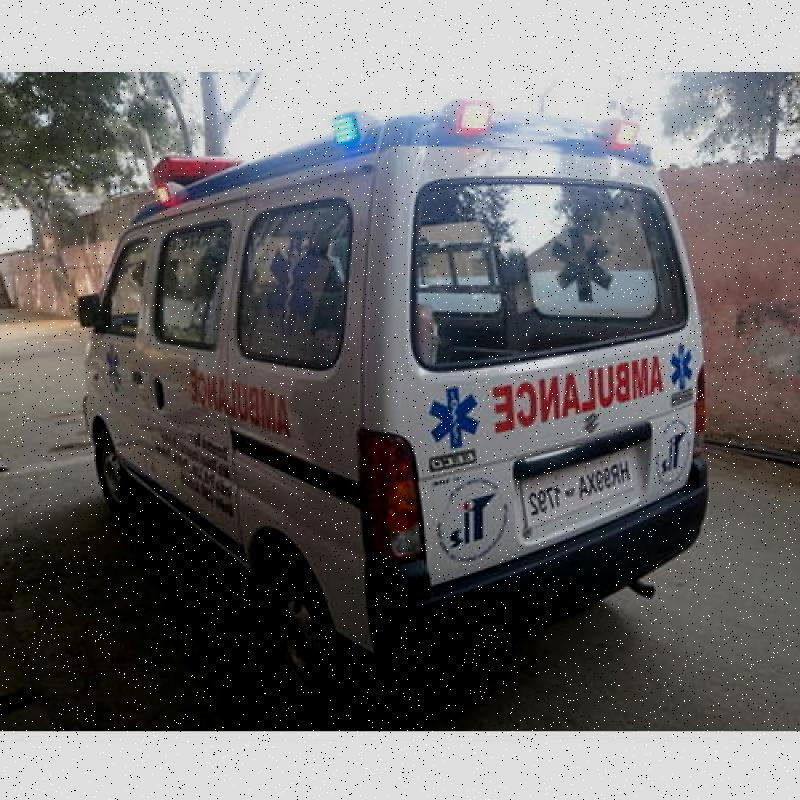ambulance: (79, 123, 702, 658)
